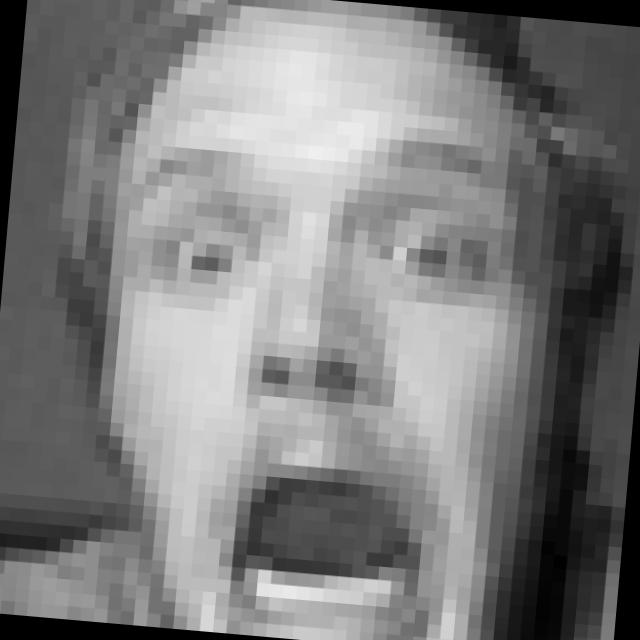fear: (77, 105, 520, 640)
